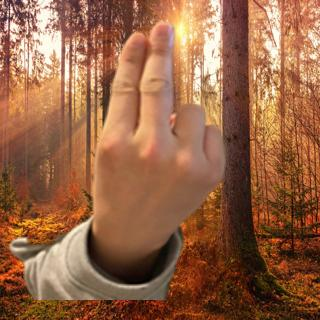DHAVE: (89, 18, 231, 257)
